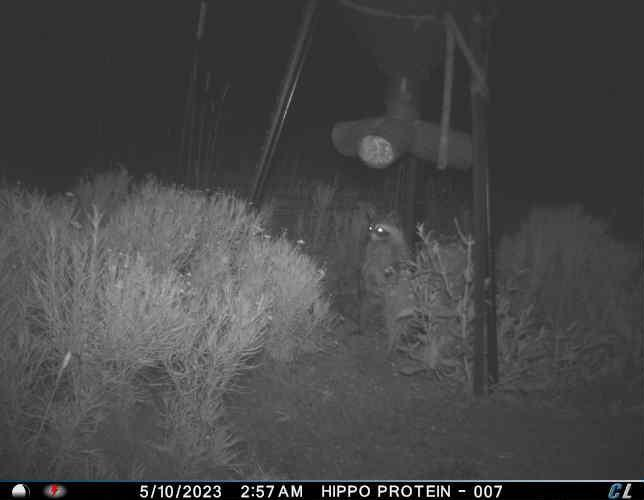Raccoon: (353, 205, 414, 339)
